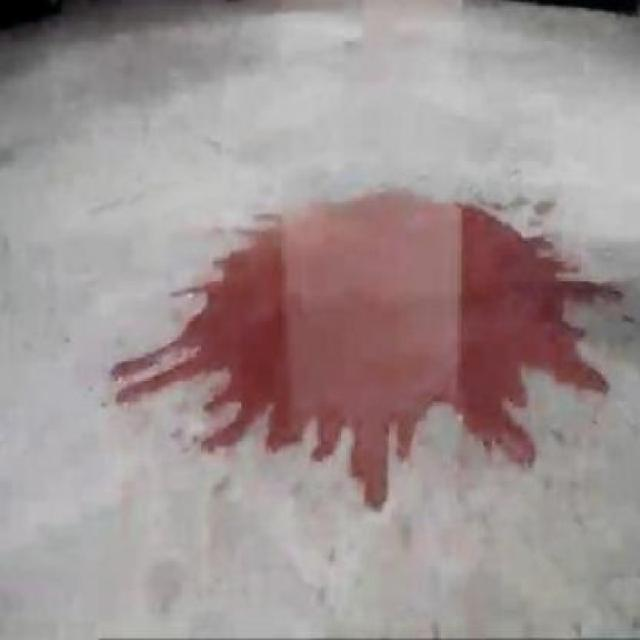spillage: (111, 192, 608, 511)
